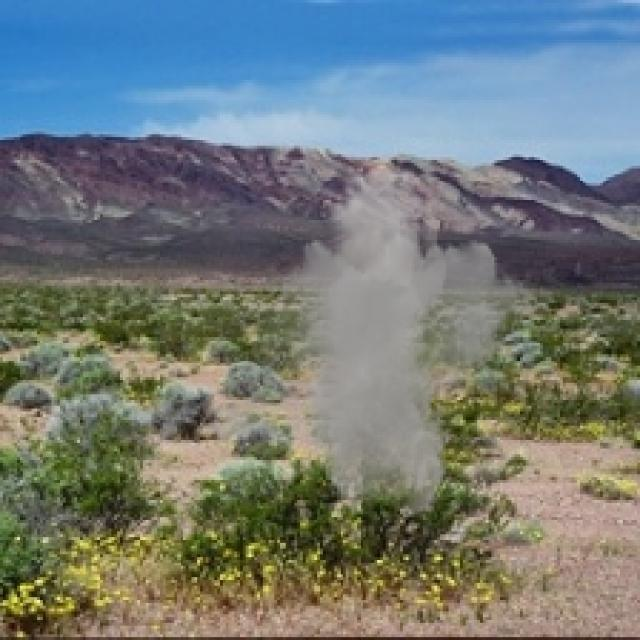Smoke: (197, 168, 540, 518)
